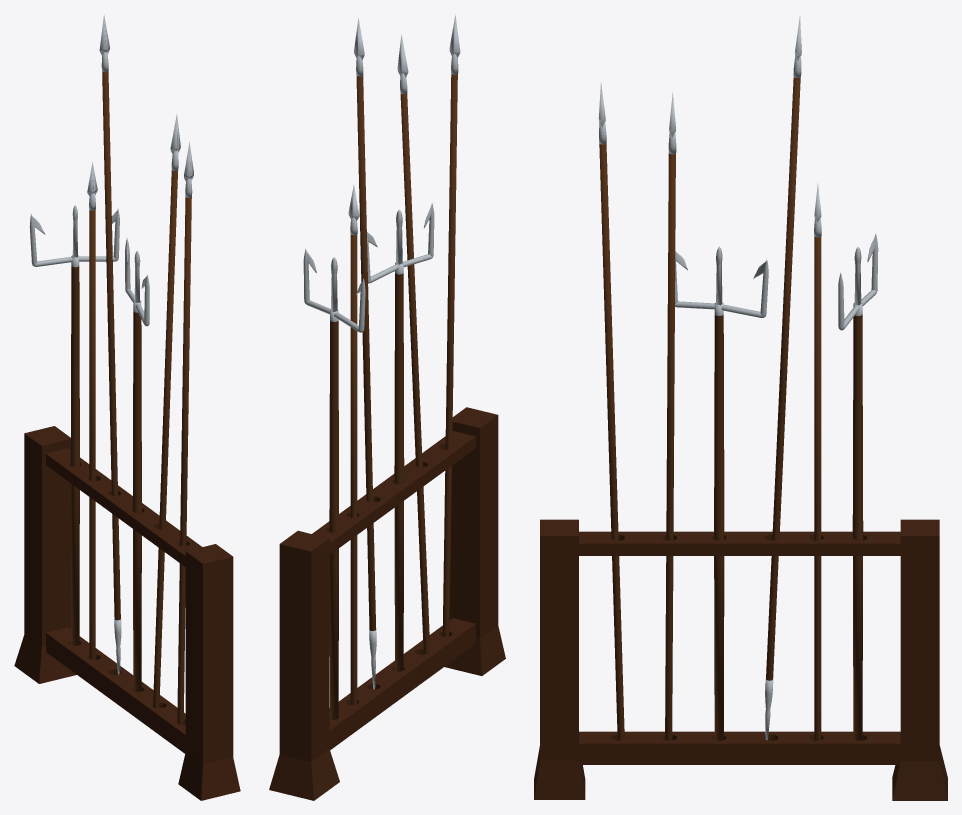
File: Speer Ständer Ver 5.fbx
3 renders of one model, left to right at view 1: azimuth 30°, elevation 25°; view 2: azimuth 150°, elevation 25°; view 3: azimuth 270°, elevation 25°, orthographic. The views are drawn at different scales.
Visible parts, largest first — view 1: Speer Ständer Ver 5; view 2: Speer Ständer Ver 5; view 3: Speer Ständer Ver 5.
Boxes of the visible parts, box(x1,y1,x2,y2) form: Speer Ständer Ver 5: box(14, 15, 240, 800); Speer Ständer Ver 5: box(269, 14, 505, 800); Speer Ständer Ver 5: box(534, 15, 947, 800).
Bounding box in the file's own units: 29.02 × 260 × 126.
